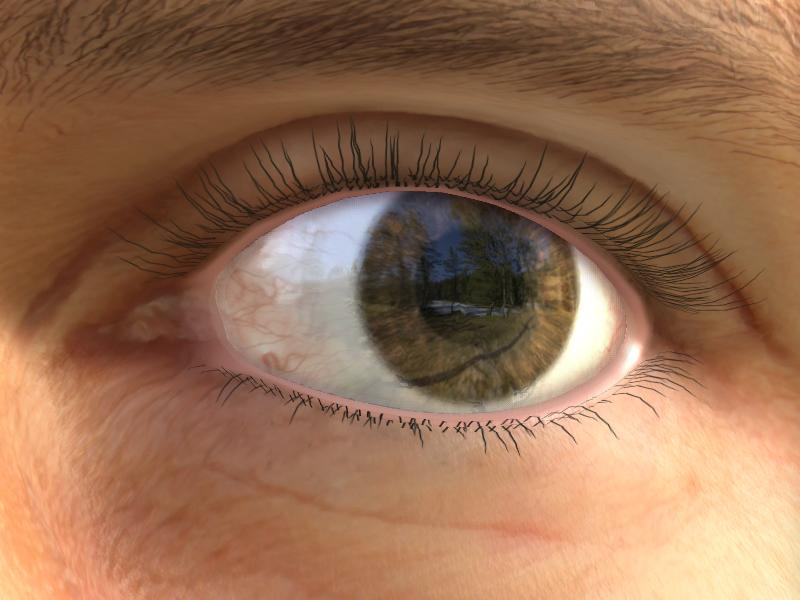eye: (355, 186, 575, 399)
